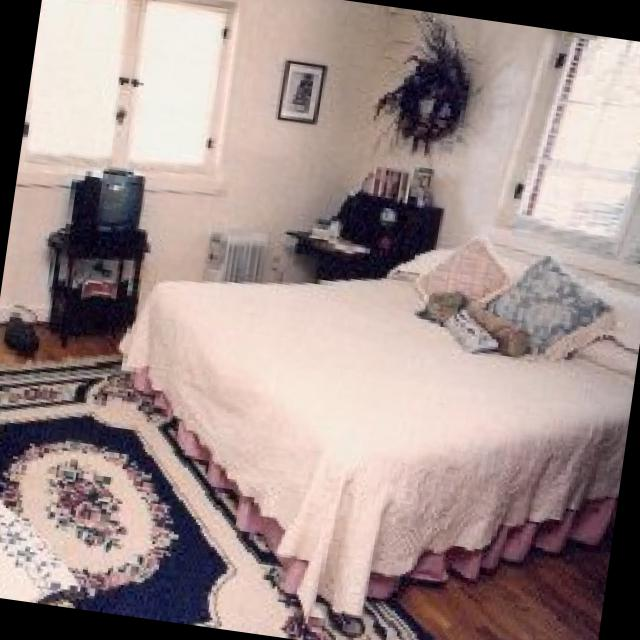2001: (25, 0, 235, 168), (517, 40, 640, 251)
bed -occluded-: (112, 231, 640, 619)
books crop: (373, 164, 415, 196)
desk calendar: (290, 187, 447, 282)
painting crop: (280, 58, 331, 128)
pillow occluded: (484, 257, 620, 360), (419, 230, 517, 315), (424, 306, 494, 349), (478, 307, 531, 352), (429, 288, 468, 316)
radiator occluded: (208, 225, 277, 280)
rug -partially obscured-: (0, 355, 436, 640)
television: (47, 224, 153, 331)
television cabinet: (77, 166, 151, 235)
